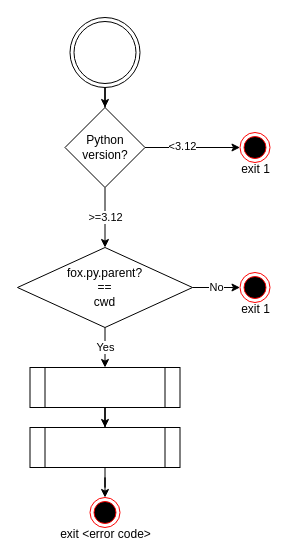
Some shapes in this 288 by 559 pixel diagram are drawn without their labels. Each missing label, with the centre of its shape:
"Activate environment" goes at point (104, 387).
"fox.py <args>" goes at point (104, 52).
"Run 'cli' main" goes at point (104, 447).
